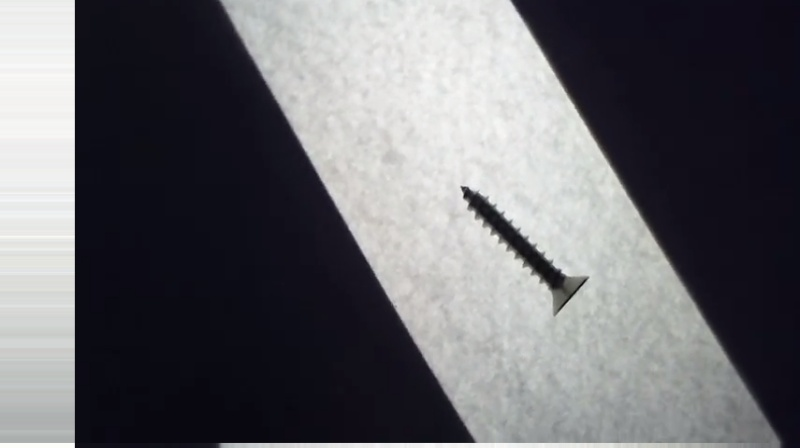S001: (455, 180, 595, 319)
